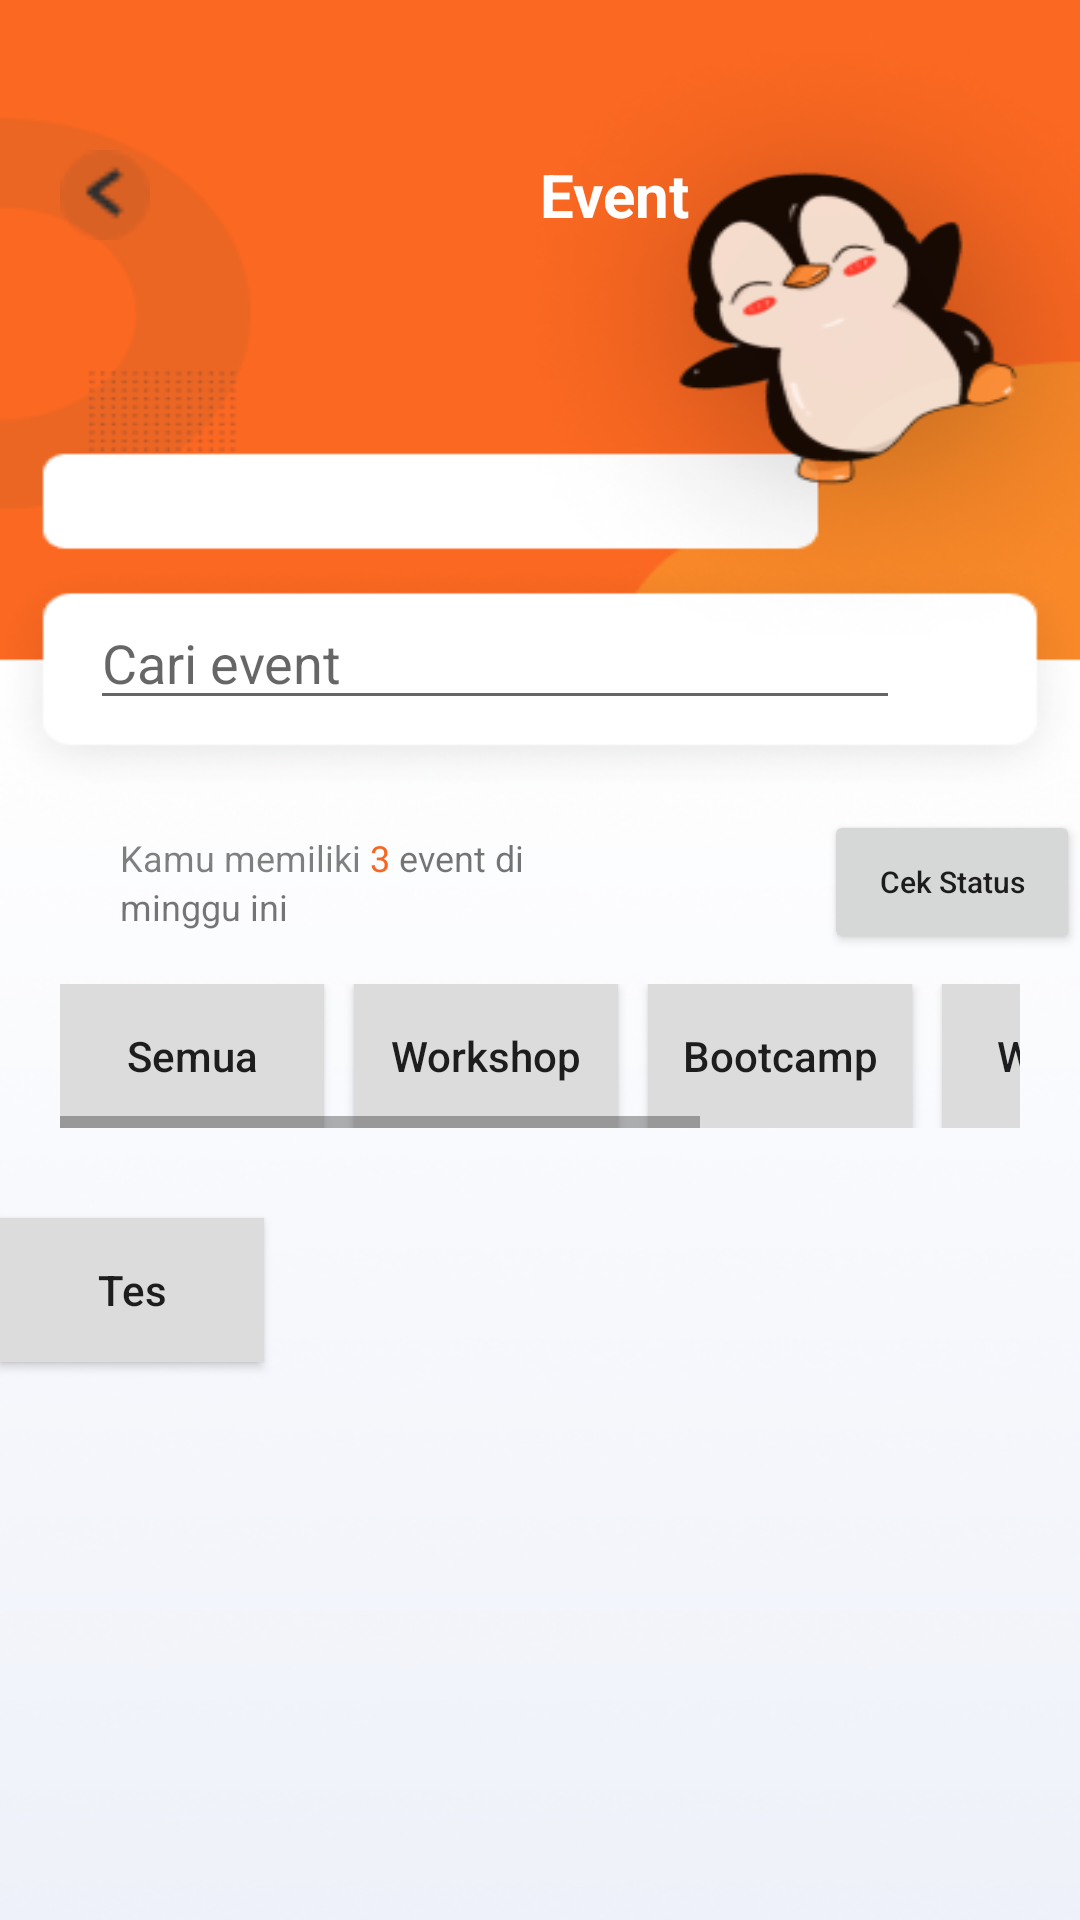

Icons on this 1080px×1920px Android screen, each with the point to tap as [x,y]:
back event: [105,192]
